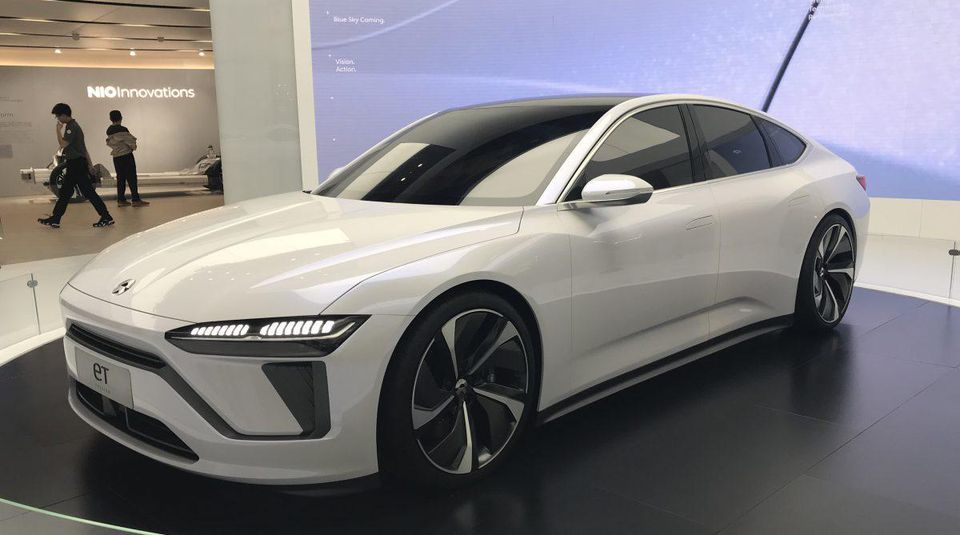car: (58, 90, 870, 493)
